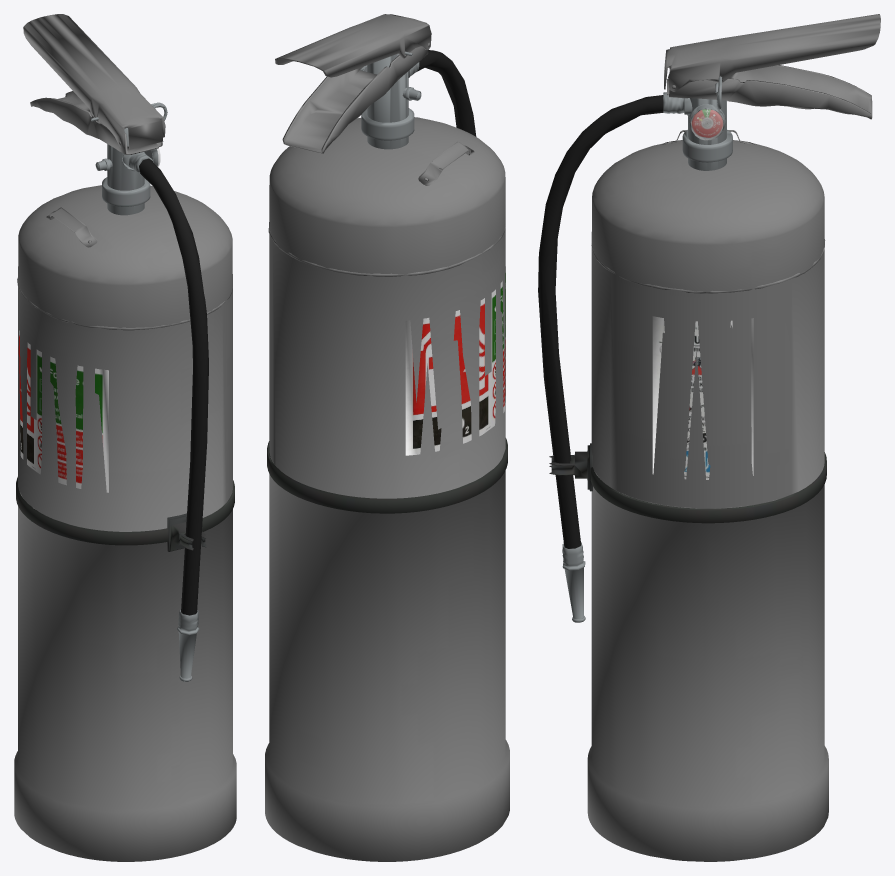
File: simready-extinguisher.glb
3 views of the same model, side by side, from view 1: azimuth 30°, elevation 25°; view 2: azimuth 150°, elevation 25°; view 3: azimuth 270°, elevation 25° (orthographic). The views are drawn at different scales.
Parts seen in each view (by area): view 1: body_01_mesh_00.001; view 2: body_01_mesh_00.001; view 3: body_01_mesh_00.001, glass_01_mesh_00.
Part boxes in pixels (left/top/right/bottom): body_01_mesh_00.001: left=14, top=14, right=236, bottom=861; body_01_mesh_00.001: left=265, top=14, right=509, bottom=861; body_01_mesh_00.001: left=538, top=14, right=880, bottom=861; glass_01_mesh_00: left=691, top=109, right=723, bottom=140.
Size of the model in its own units: 0.2044 by 0.7576 by 0.2976.
6 materials, 4 textured.
